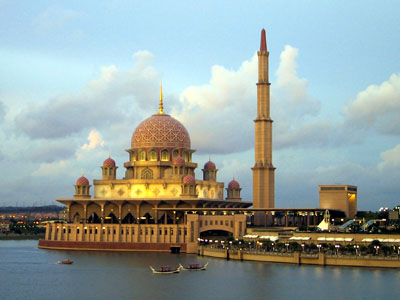Mosque: (58, 21, 280, 248)
